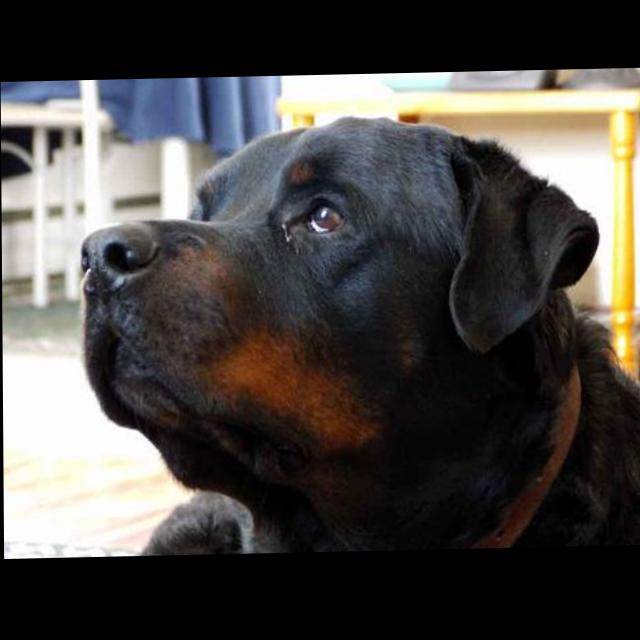rottweiler: (76, 111, 640, 559)
